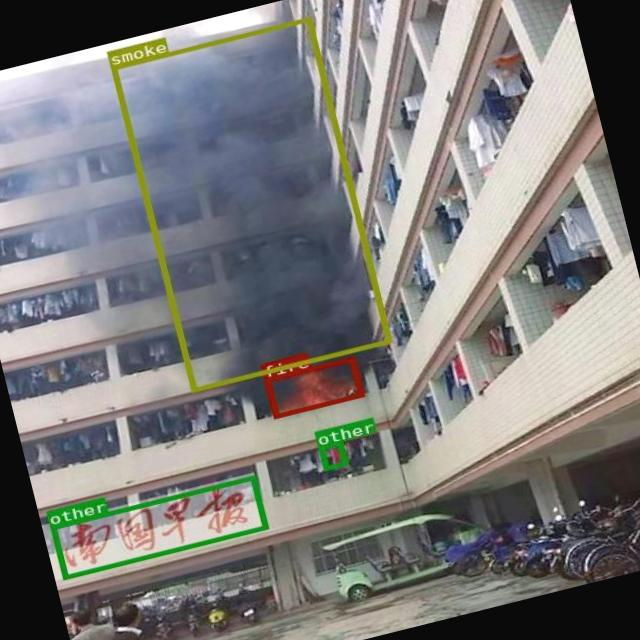fire: (262, 357, 362, 418)
smoke: (108, 16, 390, 391)
